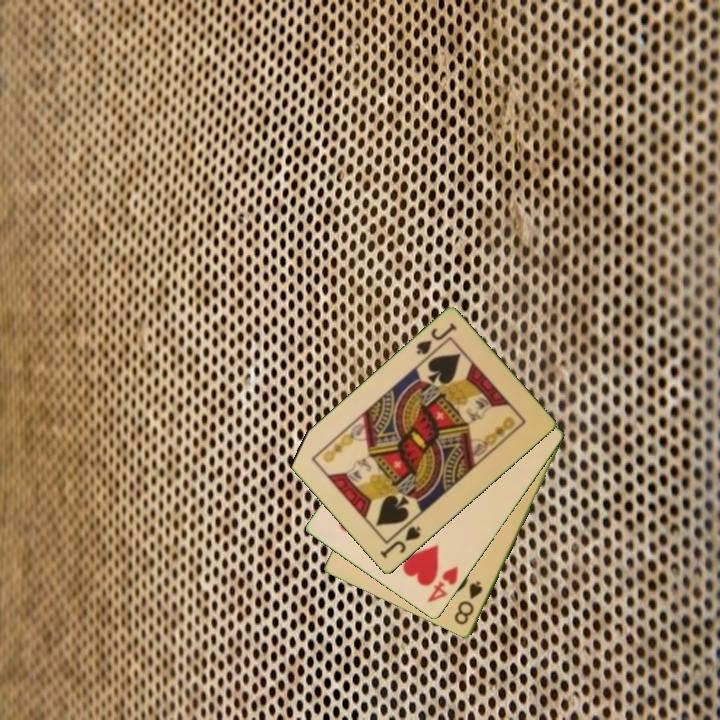4h: (424, 563, 461, 606)
8s: (451, 578, 486, 628)
Js: (376, 523, 424, 562), (412, 320, 460, 358)
